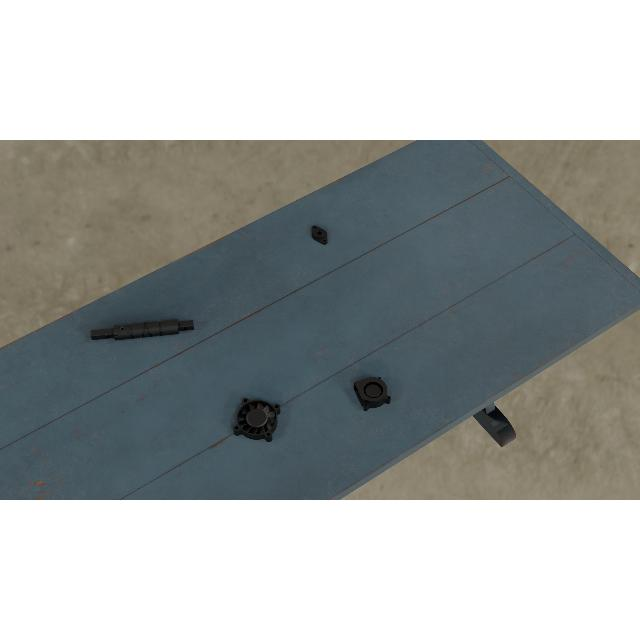Pieza1: (90, 314, 194, 346)
Pieza2: (307, 222, 333, 246)
Pieza3: (353, 373, 392, 413)
Pieza4: (232, 396, 282, 444)
